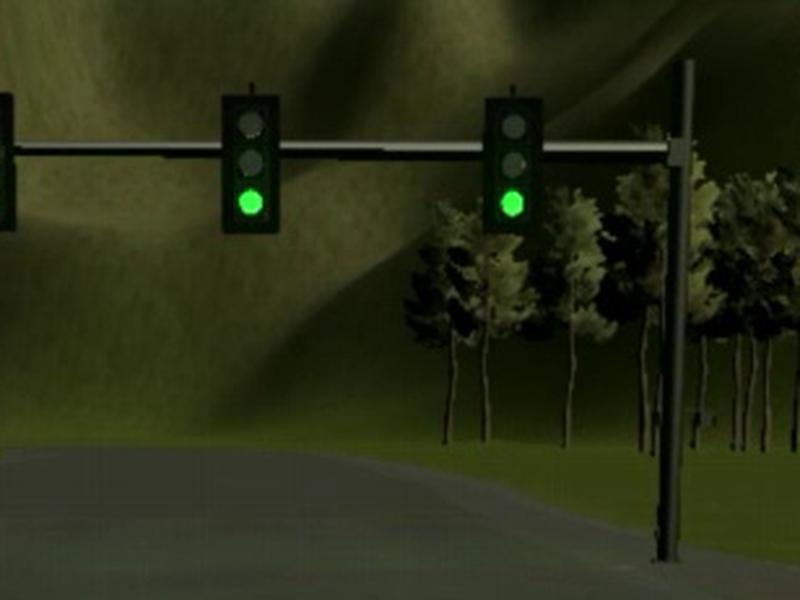Green: (218, 94, 279, 234), (485, 99, 545, 236)
